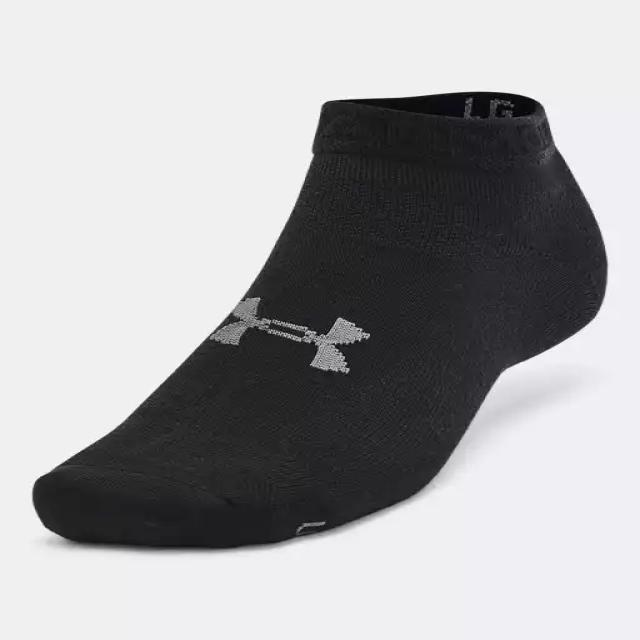sock: (31, 89, 608, 549)
